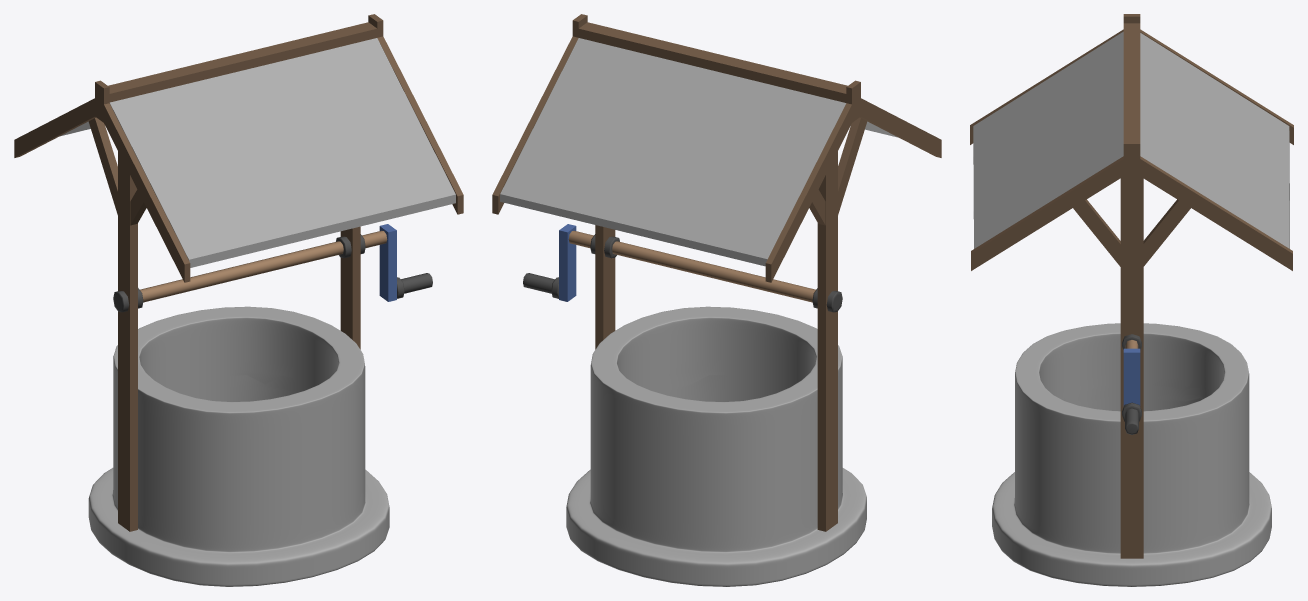
The model's file is Well.fbx.
3 views of the same model, side by side, from view 1: azimuth 30°, elevation 25°; view 2: azimuth 150°, elevation 25°; view 3: azimuth 270°, elevation 25° (orthographic). The views are drawn at different scales.
Parts seen in each view (by area): view 1: Canopy, Well, Stick; view 2: Canopy, Well, Stick; view 3: Canopy, Well, Stick.
Part boxes in pixels (left/top/right/bottom): Canopy: left=14, top=14, right=463, bottom=531; Well: left=88, top=306, right=389, bottom=586; Stick: left=113, top=224, right=432, bottom=312; Canopy: left=492, top=14, right=941, bottom=531; Well: left=566, top=306, right=866, bottom=586; Stick: left=523, top=224, right=842, bottom=312; Canopy: left=970, top=14, right=1293, bottom=558; Well: left=992, top=323, right=1271, bottom=586; Stick: left=1122, top=334, right=1141, bottom=434.
Size of the model in its own units: 280 by 386 by 250.
